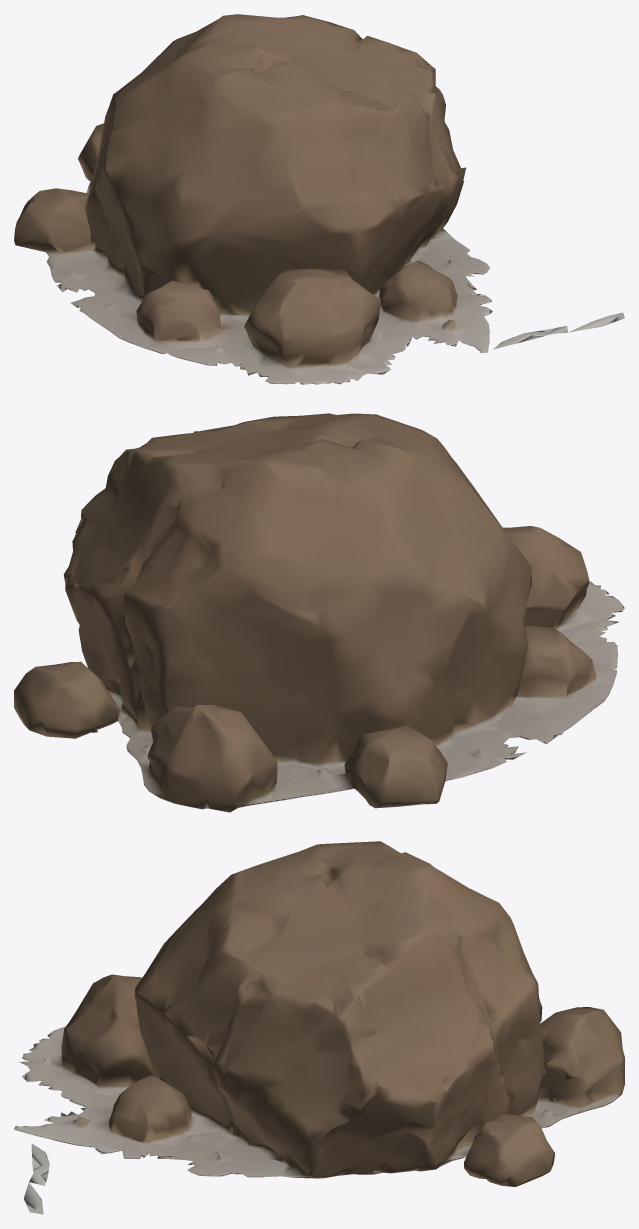
The model's file is rock+boulder+3d+model.glb.
3 views of the same model, one above another, from view 1: azimuth 30°, elevation 25°; view 2: azimuth 150°, elevation 25°; view 3: azimuth 270°, elevation 25° (orthographic). The views are drawn at different scales.
Visible parts, largest first — view 1: tripo_node_6eb5f6da-8e67-41f1-9a9b-879e4dd44c04; view 2: tripo_node_6eb5f6da-8e67-41f1-9a9b-879e4dd44c04; view 3: tripo_node_6eb5f6da-8e67-41f1-9a9b-879e4dd44c04.
Part boxes in pixels (x1,y1,x2,y2): tripo_node_6eb5f6da-8e67-41f1-9a9b-879e4dd44c04: (14, 14, 624, 384); tripo_node_6eb5f6da-8e67-41f1-9a9b-879e4dd44c04: (14, 413, 624, 812); tripo_node_6eb5f6da-8e67-41f1-9a9b-879e4dd44c04: (14, 841, 624, 1214).
Size of the model in its own units: 0.8386 by 0.4266 by 1.
1 material, 1 textured.
